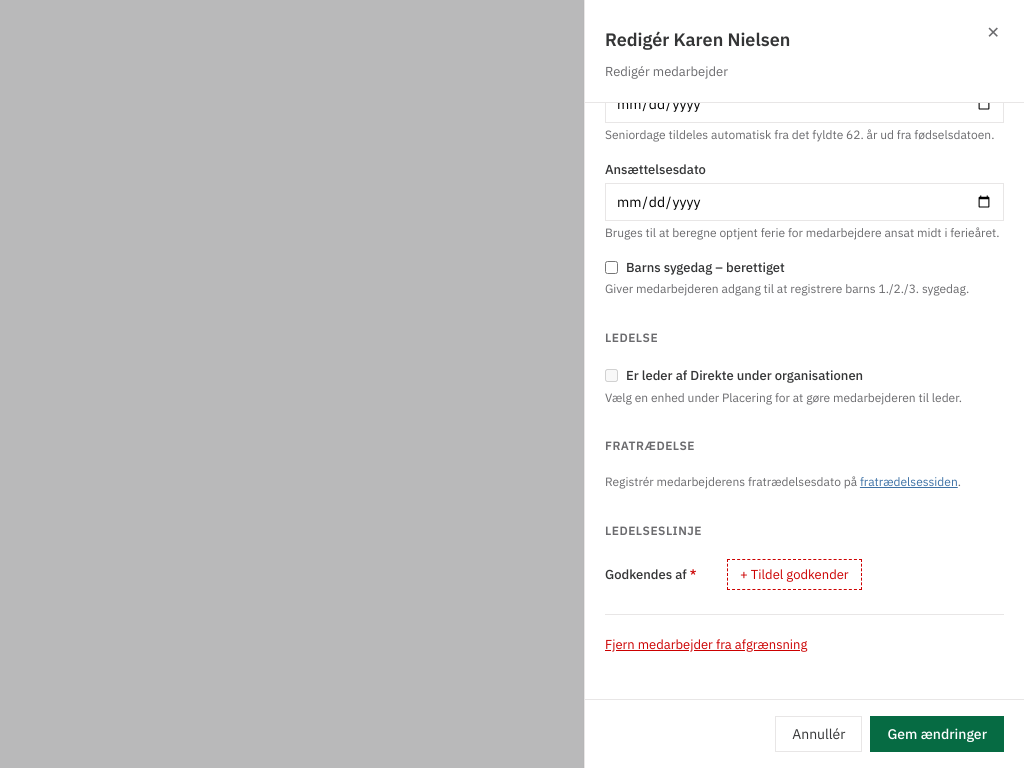
Test: PersonDrawer — B0 visibility: the danger section (awareness, not consequence) › shows the scheduled profile AND agreement changes before HR confirms "Fjern medarbejder fra afgrænsning"
(page scrolled)
Click the button with test id "danger-open". click: [706, 645]
box: [605, 636, 807, 653]
(page scrolled)
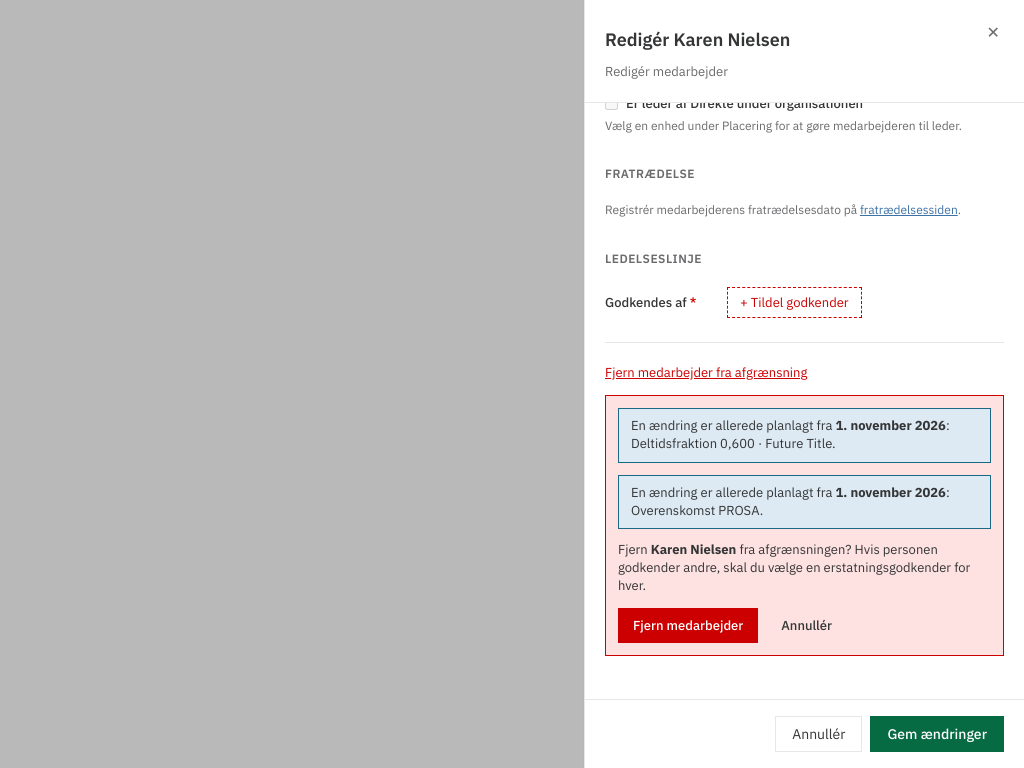
Expected: the element with test id "danger-profile-scheduled" shows "Future Title", [631, 435, 832, 452]
Expected: the element with test id "danger-agreement-scheduled" shows "PROSA", [631, 502, 760, 519]
